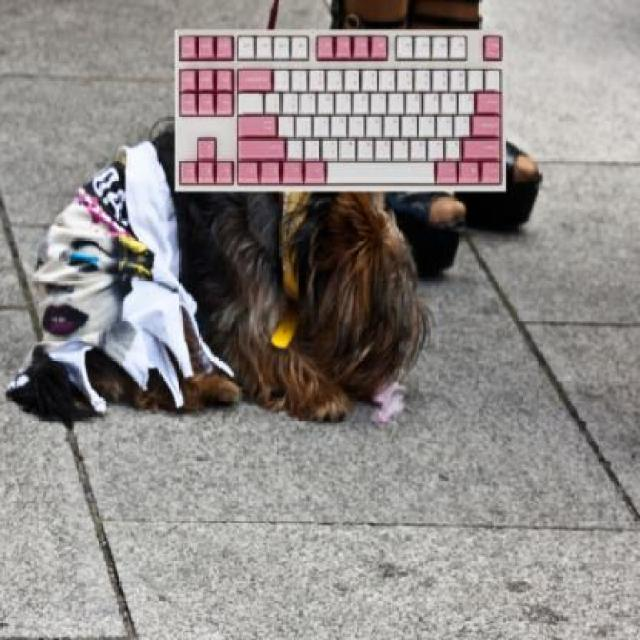keyboard: (175, 30, 503, 197)
